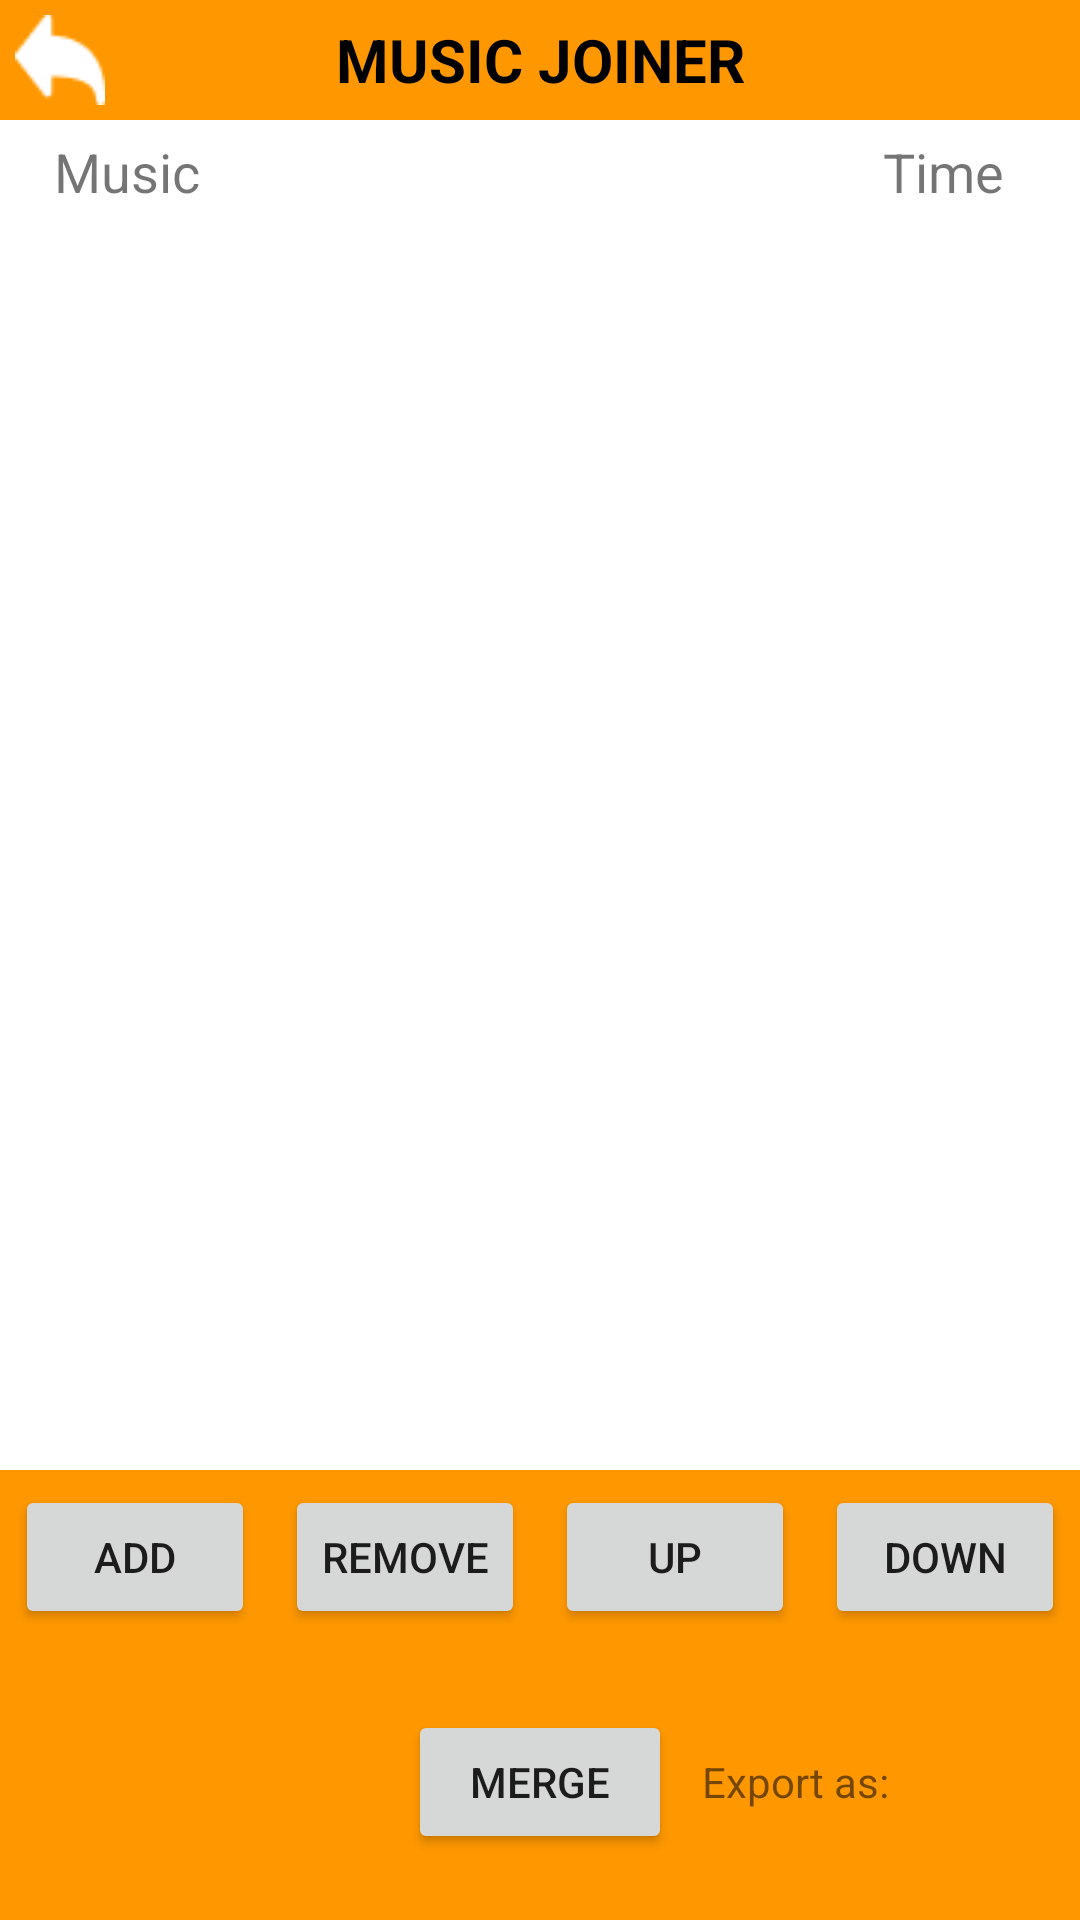

Locate icon controls on the screen. Image size 1080 x 1920, boxes as rect(x1, y1, x2, y2).
back: rect(15, 15, 105, 105)
